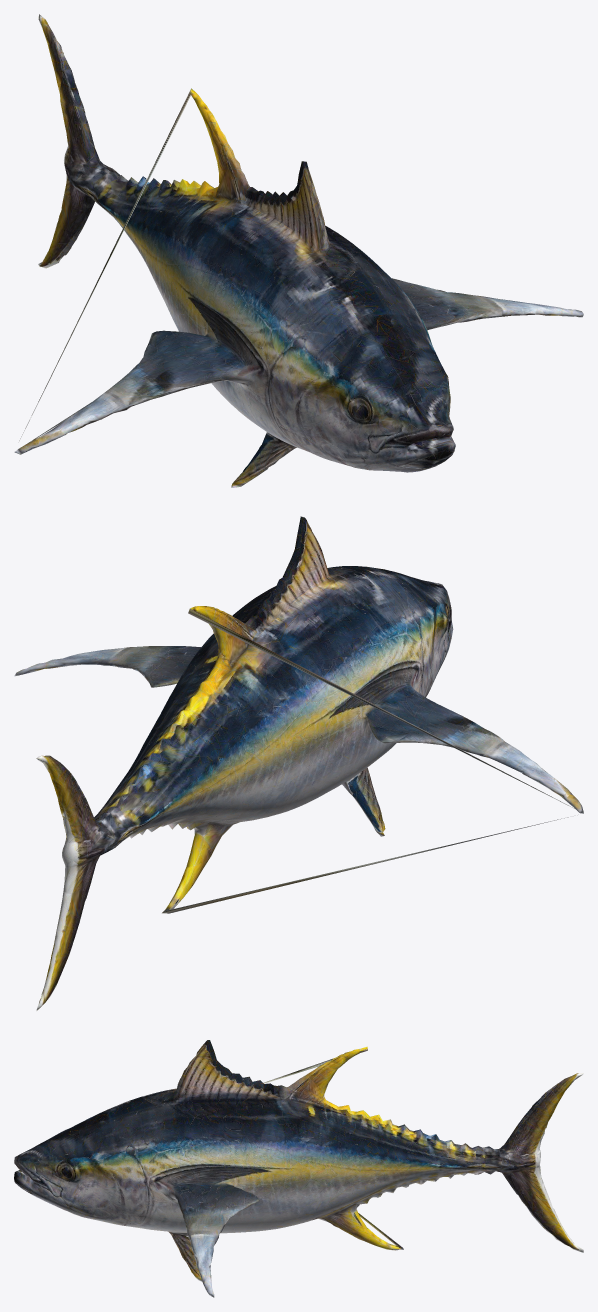
Rendered from fish_yellowfin.glb.
3 views of the same model, one above another, from view 1: azimuth 30°, elevation 25°; view 2: azimuth 150°, elevation 25°; view 3: azimuth 270°, elevation 25° (orthographic). The views are drawn at different scales.
Visible parts, largest first — view 1: geometry_0; view 2: geometry_0; view 3: geometry_0.
Boxes of the visible parts, x1,y1,x2,y2 form: geometry_0: (14, 14, 583, 487); geometry_0: (14, 516, 583, 1010); geometry_0: (14, 1040, 583, 1297).
Size of the model in its own units: 1.6 by 0.8157 by 1.96.
1 material, 1 textured.
